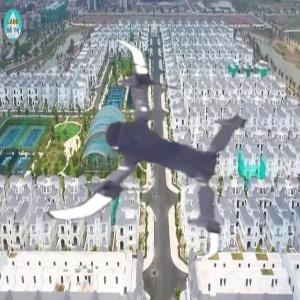drone: (33, 38, 253, 258)
